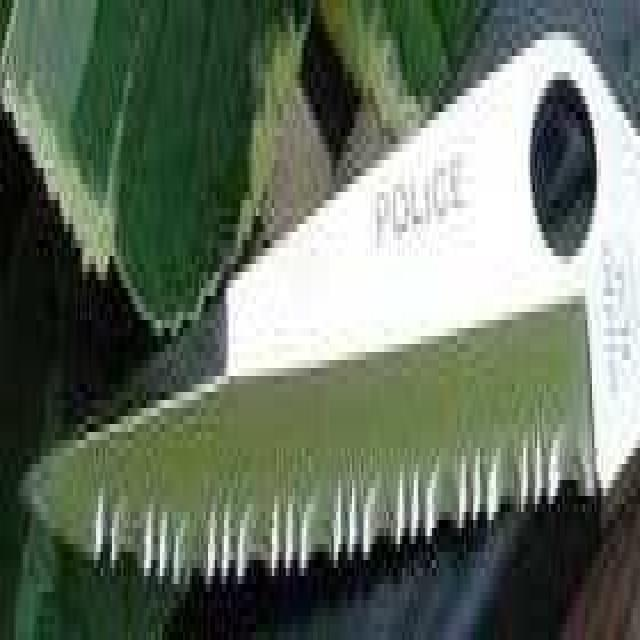knife: (7, 0, 638, 592)
